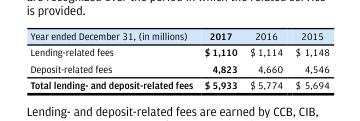table: (29, 29, 328, 90)
table column: (29, 29, 198, 90), (242, 29, 288, 90), (198, 29, 242, 90), (288, 29, 328, 90)
table column header: (29, 29, 328, 43)
table row: (29, 59, 328, 76), (29, 43, 328, 59), (29, 29, 328, 43), (29, 76, 328, 90)
